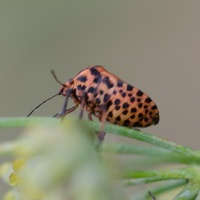insect: (54, 65, 158, 138)
